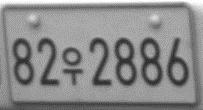2: (88, 36, 112, 87), (36, 36, 60, 85)
6: (165, 36, 189, 86)
8: (139, 36, 163, 85), (114, 37, 137, 85), (11, 37, 34, 84)
우: (61, 46, 84, 85)
